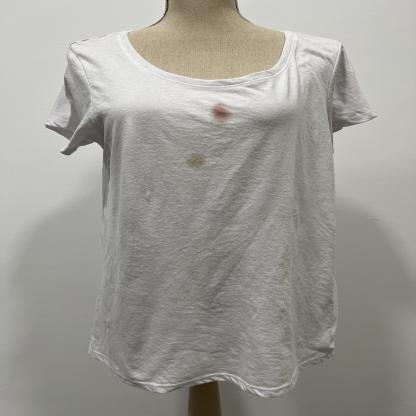stain: (207, 101, 236, 125), (182, 151, 210, 173)
